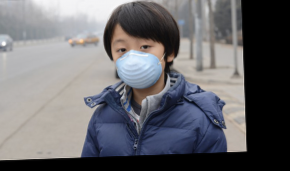with_mask: (111, 33, 166, 89)
